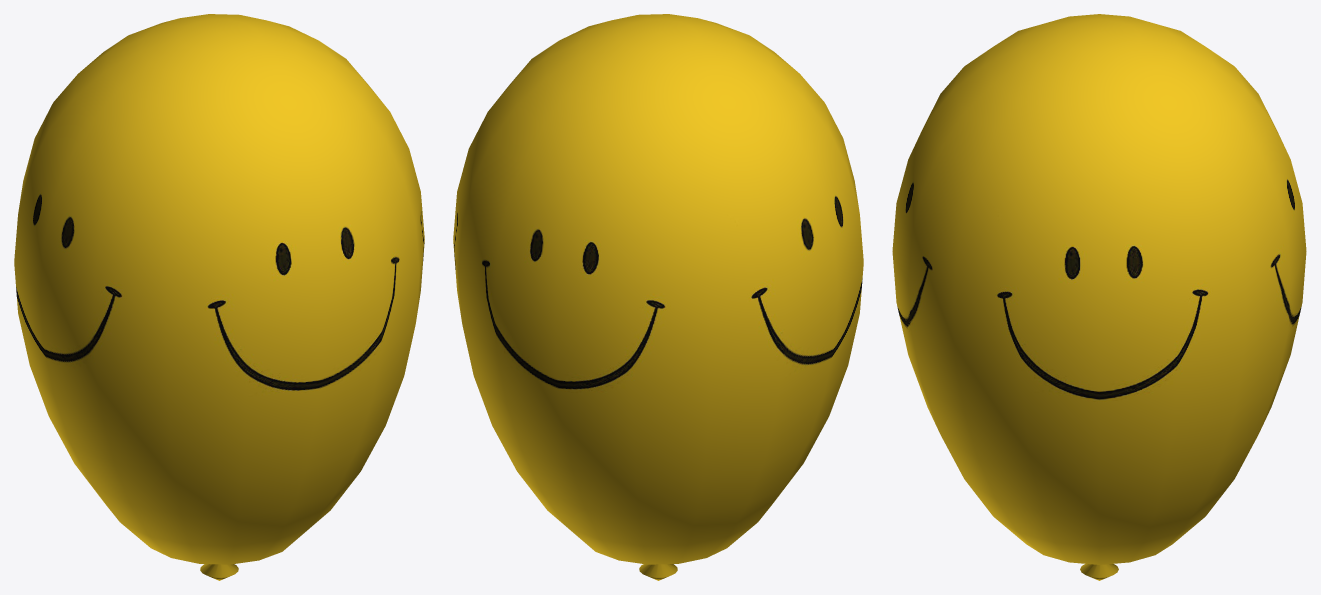
File: baloon.fbx
The picture shows the model from 3 angles, left to right: view 1: azimuth 30°, elevation 25°; view 2: azimuth 150°, elevation 25°; view 3: azimuth 270°, elevation 25°; orthographic projection.
Parts seen in each view (by area): view 1: Sphere; view 2: Sphere; view 3: Sphere.
Part boxes in pixels (x1,y1,x2,y2): Sphere: (14,14,424,580); Sphere: (453,14,863,580); Sphere: (892,14,1306,580).
Size of the model in its own units: 200 by 292 by 200.
Materials: 1 (1 with a texture image).
